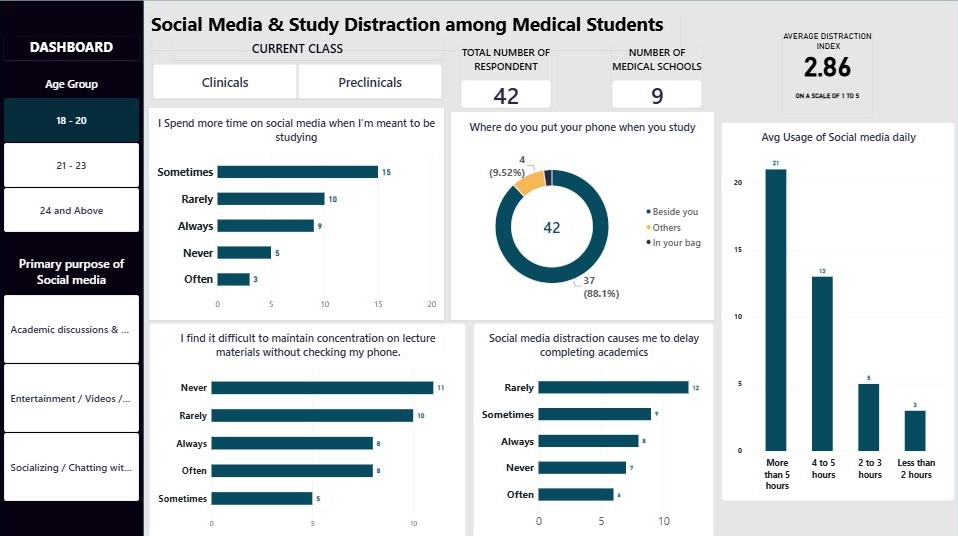

What the dashboard file says about the page in this screenshot:
{"tool":"powerbi","page":{"name":"Page 2","canvas":[1920,1080],"ordinal":1},"visuals":[{"type":"group","id":"g1","title":"Group 1","box":[0,0,1920,1080],"z":0},{"type":"shape","box":[288,0,1632,1078],"z":0,"group":"g1"},{"type":"shape","box":[0,0,288.7,1080],"z":1000,"group":"g1"},{"type":"textbox","box":[304,22,1058,78],"z":1000},{"type":"cardVisual","title":"TOTAL NUMBER OF RESPONDENT","fields":{"Data":["CountNonNull(Sheet1.Institution/MSA)"]},"box":[924,90,180,126],"z":2000},{"type":"cardVisual","title":"NUMBER OF MEDICAL SCHOOLS","fields":{"Data":["Count(Sheet1.Institution/MSA)"]},"box":[1226,90,180,126],"z":3000},{"type":"textbox","box":[1568,62,178,172],"z":5000},{"type":"advancedSlicerVisual","title":"CURRENT CLASS","fields":{"Values":["Sheet1.What is your current academic level?"]},"box":[308,80,578,118],"z":5001},{"type":"advancedSlicerVisual","title":"Age Group","fields":{"Values":["Sheet1.What is your age"]},"box":[10,152,270,312],"z":5002},{"type":"textbox","box":[10,74,270,46],"z":5003},{"type":"textbox","box":[348,74,542,46],"z":5003,"group":"g1"},{"type":"advancedSlicerVisual","title":"Primary purpose of Social media ","fields":{"Values":["Sheet1.What is your primary purpose for using social media on a daily basis?"]},"box":[10,510,270,494],"z":5004},{"type":"clusteredColumnChart","title":"Avg Usage of Social media daily","fields":{"Category":["Sheet1.On average, considering both weekdays and weekends combined, how many hours per day do you spend on social media "],"Y":["CountNonNull(Sheet1.On average, considering both weekdays and weekends combined, how many hours per day do you spend on "]},"box":[1444,244,468,758],"z":5005},{"type":"clusteredBarChart","title":"I Spend more time on social media when I''m meant to be studying","fields":{"Category":["Sheet1.I spend more time scrolling on social media than intended when I am supposed to be studying"],"Y":["CountNonNull(Sheet1.I spend more time scrolling on social media than intended when I am supposed to be studying)"]},"box":[300,216,590,424],"z":5006},{"type":"donutChart","title":"Where do you put your phone when you study","fields":{"Category":["Sheet1.Where is your phone when you study?"],"Y":["CountNonNull(Sheet1.Where is your phone when you study?)"]},"box":[904,224,526,416],"z":5007},{"type":"clusteredBarChart","title":"I find it difficult to maintain concentration on lecture materials without checking my phone. ","fields":{"Category":["Sheet1.I find it difficult to maintain concentration on lecture materials without checking my phone."],"Y":["CountNonNull(Sheet1.I find it difficult to maintain concentration on lecture materials without checking my phone.)"]},"box":[300,646,634,432],"z":5008},{"type":"clusteredBarChart","title":"Social media distraction causes me to delay completing academics","fields":{"Category":["Sheet1.Social media distraction causes me to delay completing academic assignments or reading notes."],"Y":["CountNonNull(Sheet1.Social media distraction causes me to delay completing academic assignments or reading notes.)"]},"box":[948,646,482,432],"z":5009}]}

Visuals, with their boxes in screenshot pixels (x1, y1, x2, y2), scaled from the page's 1920x1080 canvas onto the 958x536 screenshot:
"Group 1" group: (left=0, top=0, right=957, bottom=535)
shape: (left=144, top=0, right=957, bottom=535)
shape: (left=0, top=0, right=144, bottom=535)
textbox: (left=152, top=11, right=680, bottom=50)
"TOTAL NUMBER OF RESPONDENT" cardVisual: (left=461, top=45, right=551, bottom=107)
"NUMBER OF MEDICAL SCHOOLS" cardVisual: (left=612, top=45, right=702, bottom=107)
textbox: (left=782, top=31, right=871, bottom=116)
"CURRENT CLASS" advancedSlicerVisual: (left=154, top=40, right=442, bottom=98)
"Age Group" advancedSlicerVisual: (left=5, top=75, right=140, bottom=230)
textbox: (left=5, top=37, right=140, bottom=60)
textbox: (left=174, top=37, right=444, bottom=60)
"Primary purpose of Social media " advancedSlicerVisual: (left=5, top=253, right=140, bottom=498)
"Avg Usage of Social media daily" clusteredColumnChart: (left=720, top=121, right=954, bottom=497)
"I Spend more time on social media when I''m meant to be studying" clusteredBarChart: (left=150, top=107, right=444, bottom=318)
"Where do you put your phone when you study" donutChart: (left=451, top=111, right=714, bottom=318)
"I find it difficult to maintain concentration on lecture materials without checking my phone. " clusteredBarChart: (left=150, top=321, right=466, bottom=535)
"Social media distraction causes me to delay completing academics" clusteredBarChart: (left=473, top=321, right=714, bottom=535)
